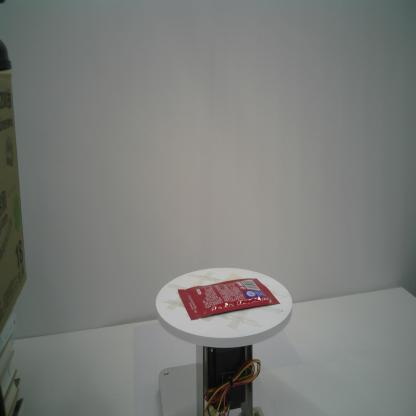Seasoner: (178, 278, 280, 320)
